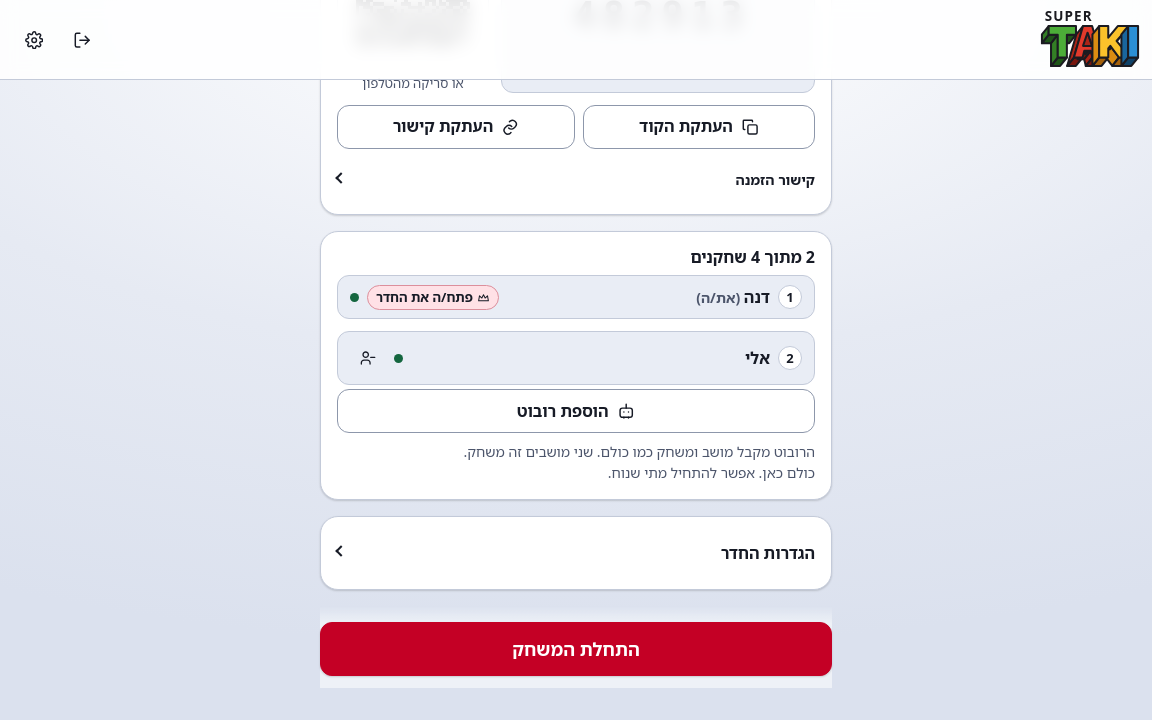
Test: the easements › shows the room’s answer rather than the request
The width and height of the screenshot is (1152, 720).
(page scrolled)
Click the heading "הגדרות החדר".
click(768, 553)  # box [721,542,815,564]
(page scrolled)
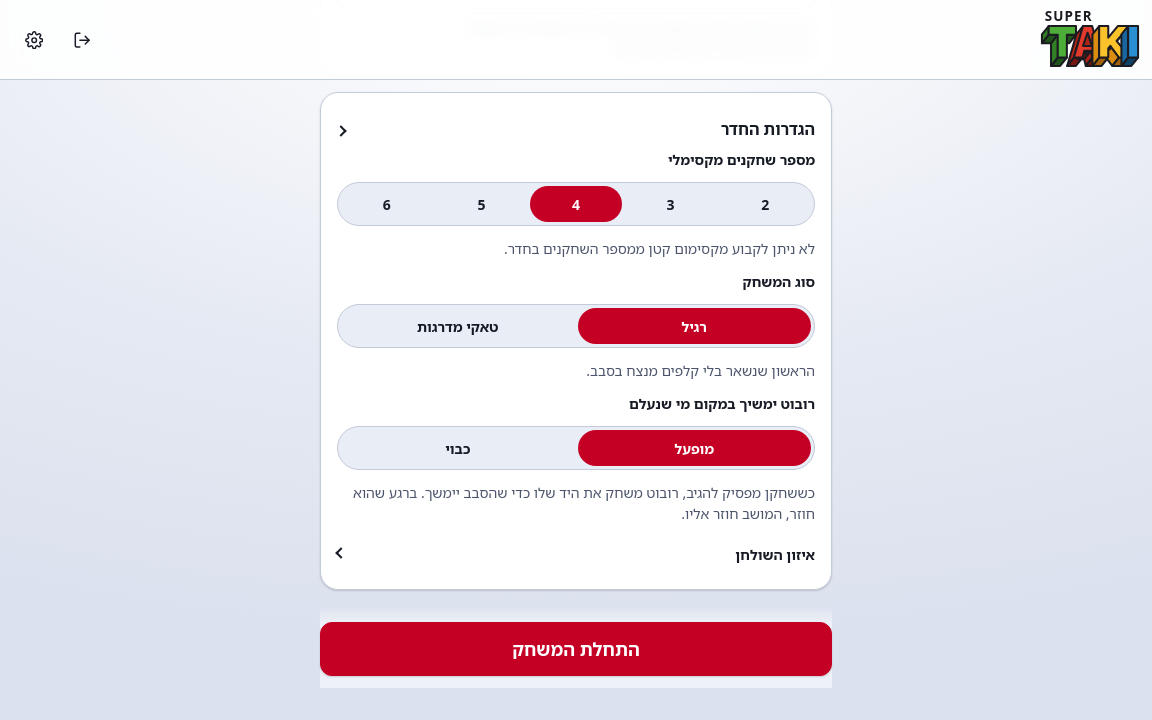
Click the heading "איזון השולחן".
click(775, 555)  # box [735,545,815,564]
(page scrolled)
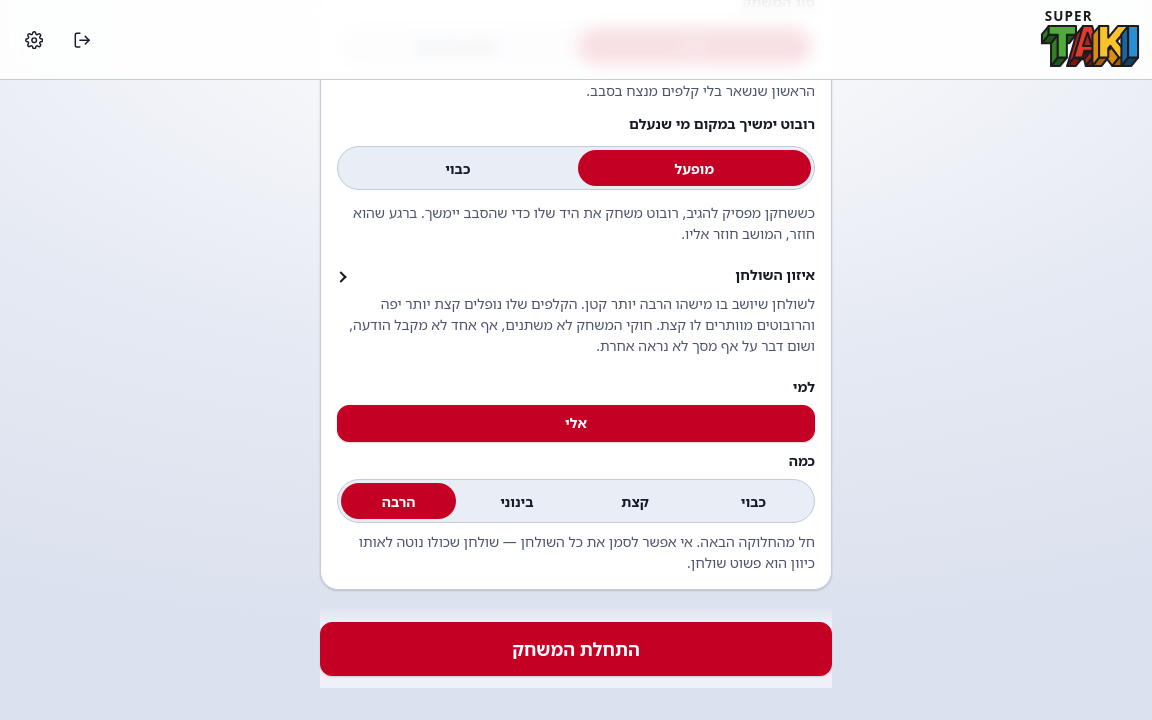
Result: the radio button labelled "הרבה" is checked at [341,483,456,519]
